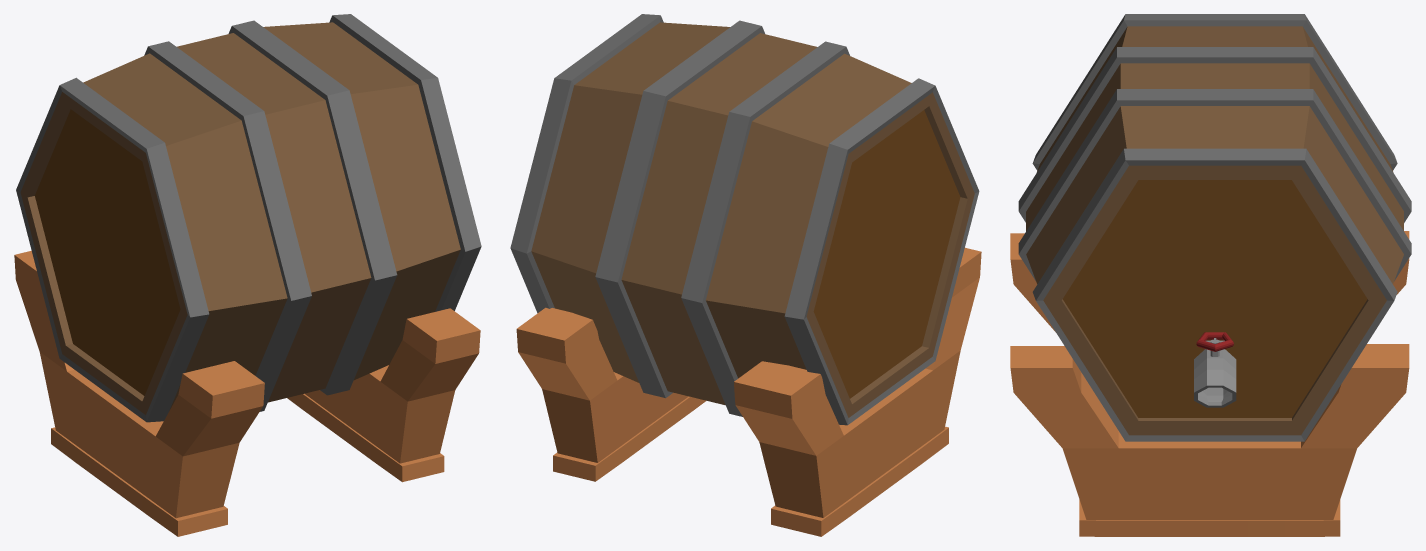
Rendered from Barrel Rack.fbx.
3 renders of one model, left to right at view 1: azimuth 30°, elevation 25°; view 2: azimuth 150°, elevation 25°; view 3: azimuth 270°, elevation 25°, orthographic. The views are drawn at different scales.
Parts seen in each view (by area): view 1: Barrel Rack; view 2: Barrel Rack; view 3: Barrel Rack.
Part boxes in pixels (box(x1,y1,x2,y2)): Barrel Rack: box(14, 14, 481, 536); Barrel Rack: box(510, 14, 981, 536); Barrel Rack: box(1010, 14, 1411, 536).
Bounding box in the file's own units: 1.19 × 1.3 × 1.18.
